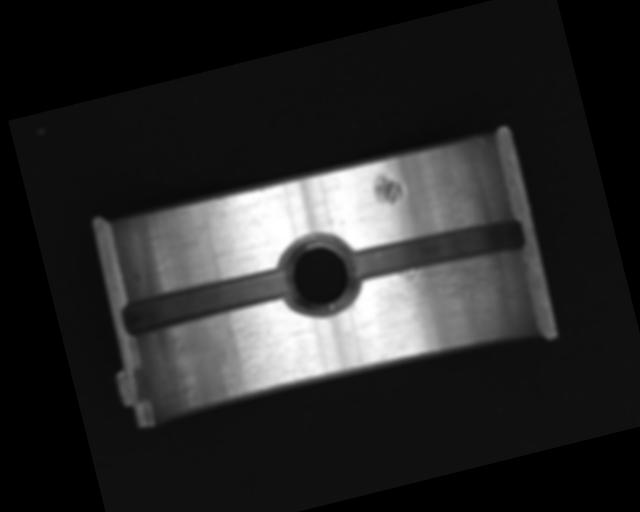bruise: (369, 167, 406, 209)
gap: (344, 209, 527, 293), (118, 264, 293, 338)
hole: (272, 226, 364, 325)
scratch: (355, 244, 524, 361)
